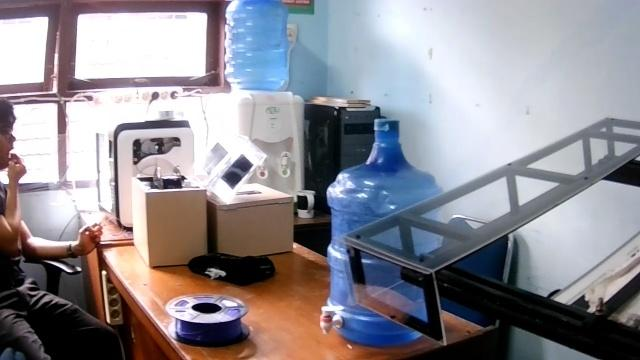Dispenser: (223, 0, 305, 186)
Meja: (101, 230, 494, 359)
